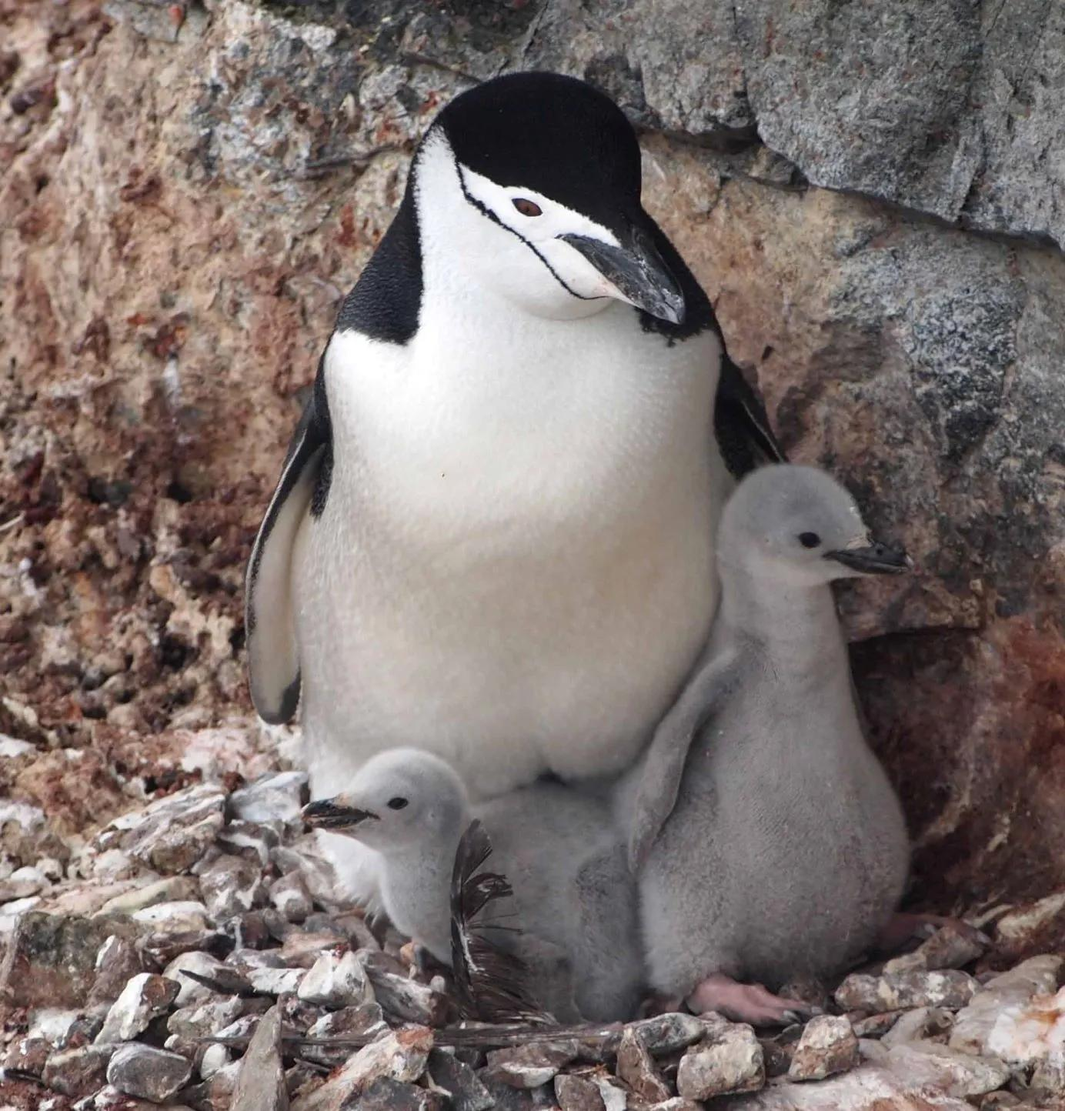Penguin: (248, 72, 779, 798), (638, 465, 906, 1025), (298, 749, 644, 1022)
